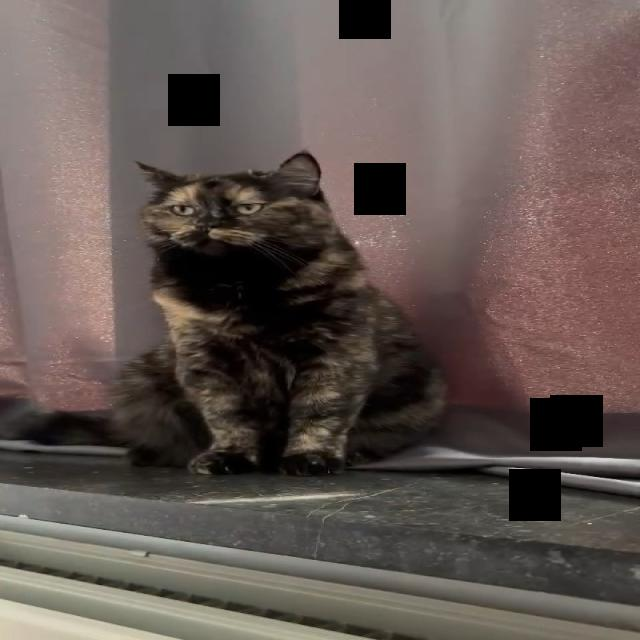authorized: (108, 150, 449, 476)
